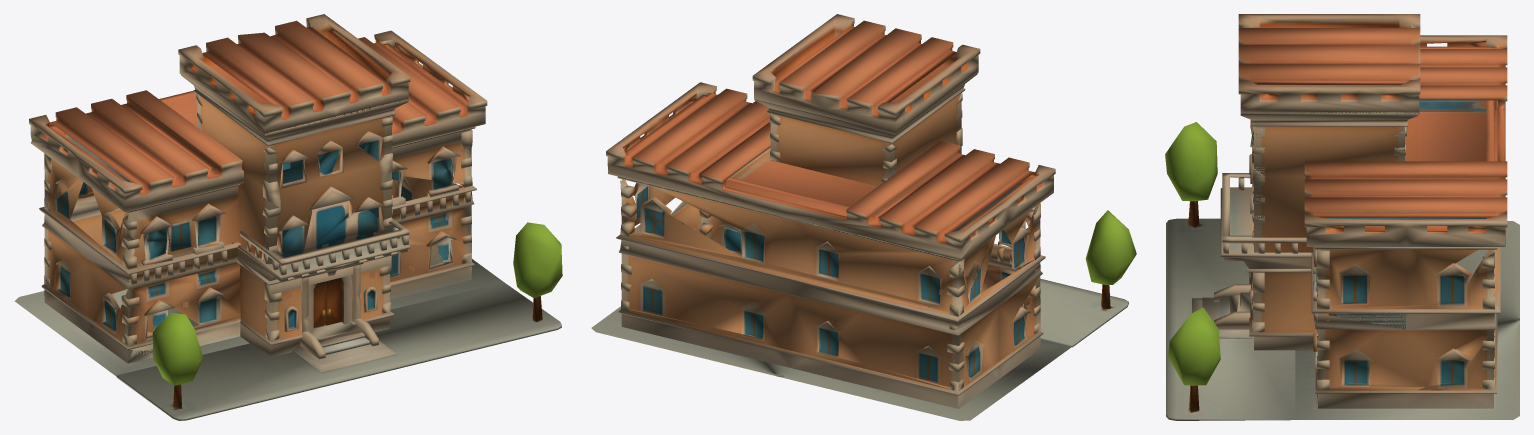
Rendered from 019e4b81-8e17-7af6-9b87-61ebc389b8ec.glb.
3 renders of one model, left to right at view 1: azimuth 30°, elevation 25°; view 2: azimuth 150°, elevation 25°; view 3: azimuth 270°, elevation 25°, orthographic. The views are drawn at different scales.
Visible parts, largest first — view 1: tripo_node_ed24050a-dea1-43ff-a228-0c99696a9dd5; view 2: tripo_node_ed24050a-dea1-43ff-a228-0c99696a9dd5; view 3: tripo_node_ed24050a-dea1-43ff-a228-0c99696a9dd5.
Part boxes in pixels (box(x1,y1,x2,y2)): tripo_node_ed24050a-dea1-43ff-a228-0c99696a9dd5: box(14, 14, 562, 420); tripo_node_ed24050a-dea1-43ff-a228-0c99696a9dd5: box(591, 14, 1136, 420); tripo_node_ed24050a-dea1-43ff-a228-0c99696a9dd5: box(1165, 14, 1519, 420).
Size of the model in its own units: 0.998 by 0.6074 by 0.7246.
Materials: 1 (1 with a texture image).
